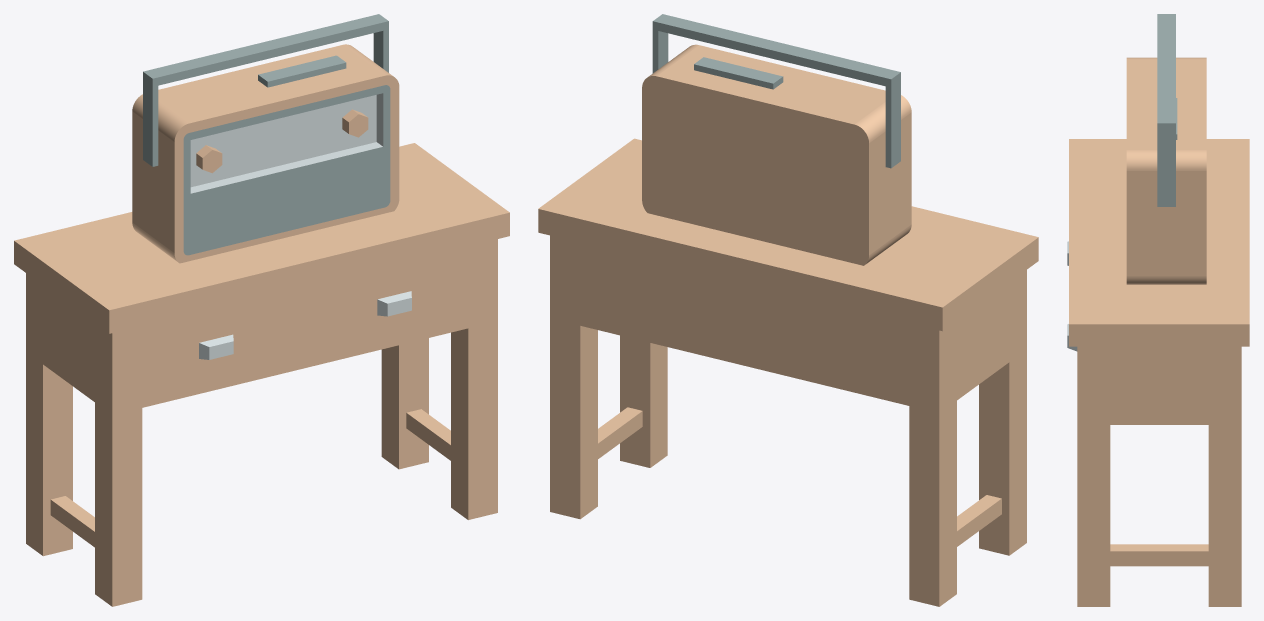
The model's file is stereo_radio.glb.
3 renders of one model, left to right at view 1: azimuth 30°, elevation 25°; view 2: azimuth 150°, elevation 25°; view 3: azimuth 270°, elevation 25°, orthographic. The views are drawn at different scales.
Parts seen in each view (by area): view 1: sideTableDrawers(Clone), radio(Clone), drawerRight, drawerLeft; view 2: sideTableDrawers(Clone), radio(Clone); view 3: sideTableDrawers(Clone), radio(Clone).
Boxes of the visible parts, left/top/right/bottom form: sideTableDrawers(Clone): left=14, top=143, right=509, bottom=606; radio(Clone): left=132, top=14, right=399, bottom=263; drawerRight: left=320, top=265, right=468, bottom=340; drawerLeft: left=142, top=309, right=289, bottom=384; sideTableDrawers(Clone): left=538, top=138, right=1038, bottom=606; radio(Clone): left=642, top=14, right=911, bottom=265; sideTableDrawers(Clone): left=1069, top=139, right=1249, bottom=606; radio(Clone): left=1126, top=14, right=1206, bottom=284.
Size of the model in its own units: 1.1 by 1.25 by 0.4557.
